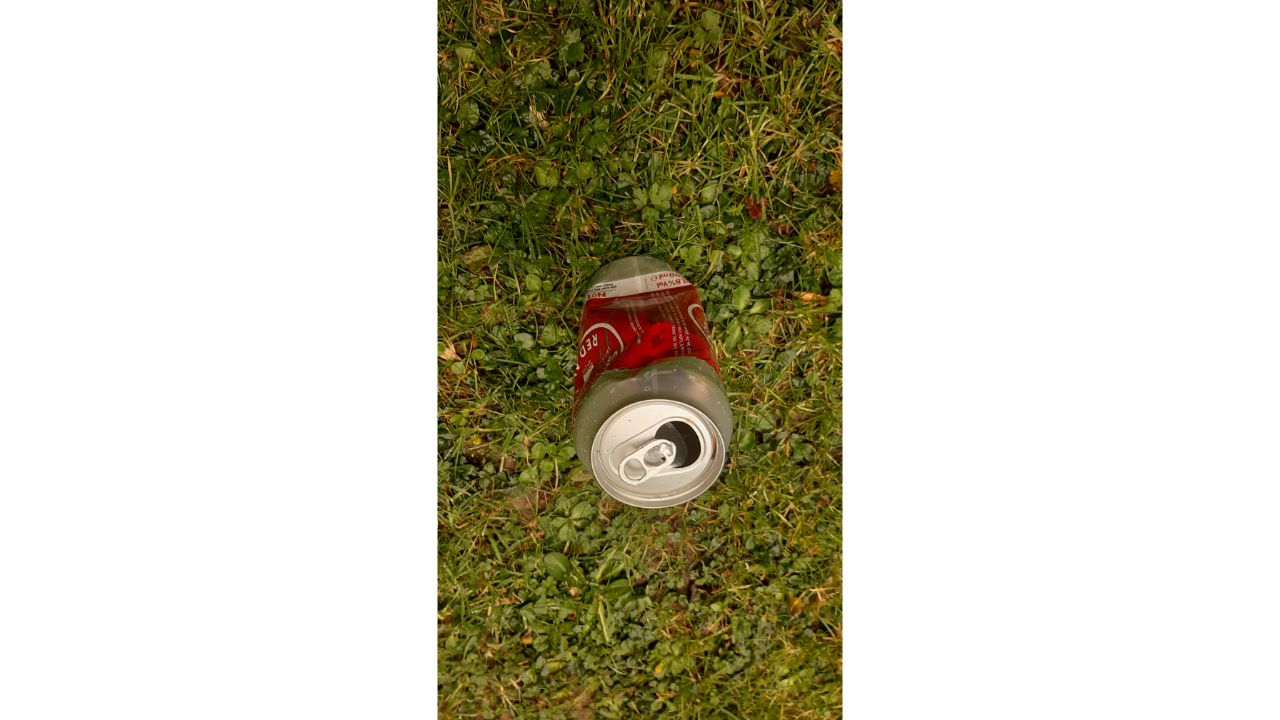Can: (576, 256, 734, 507)
